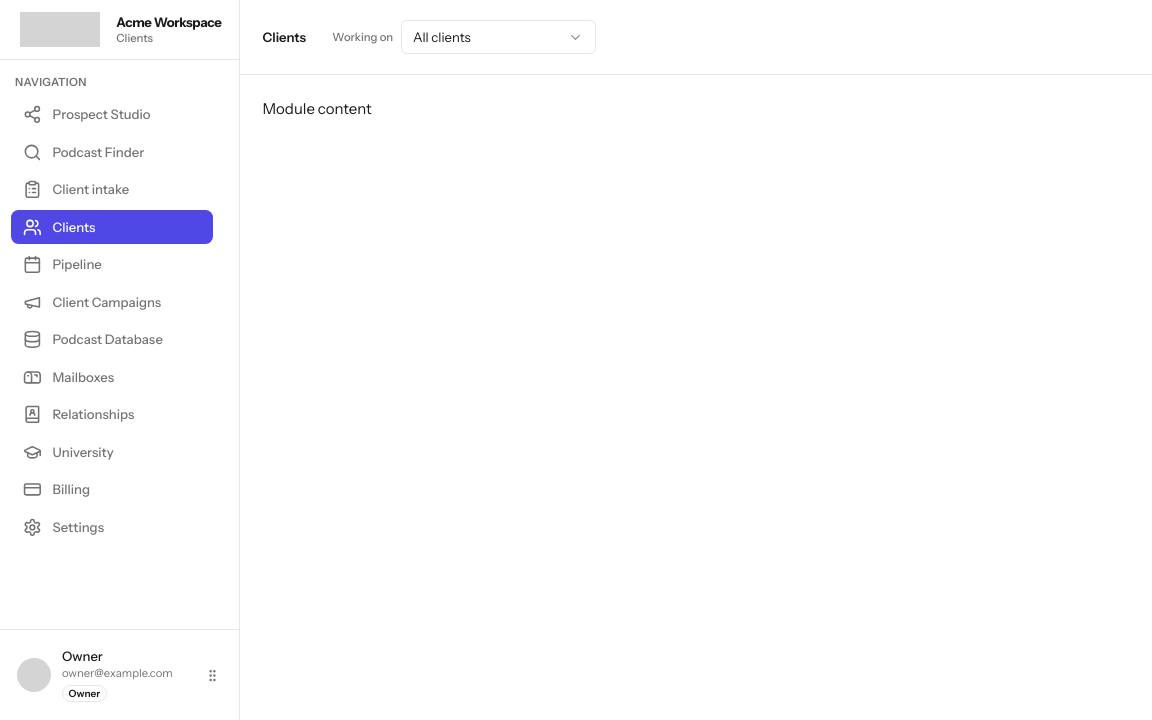
Test: WorkspaceLayout › restores and resets a navigation order saved for this owner and workspace
This screenshot has width=1152, height=720.
Click the button named "Reorder" at (213, 675), box [198,660,228,690]
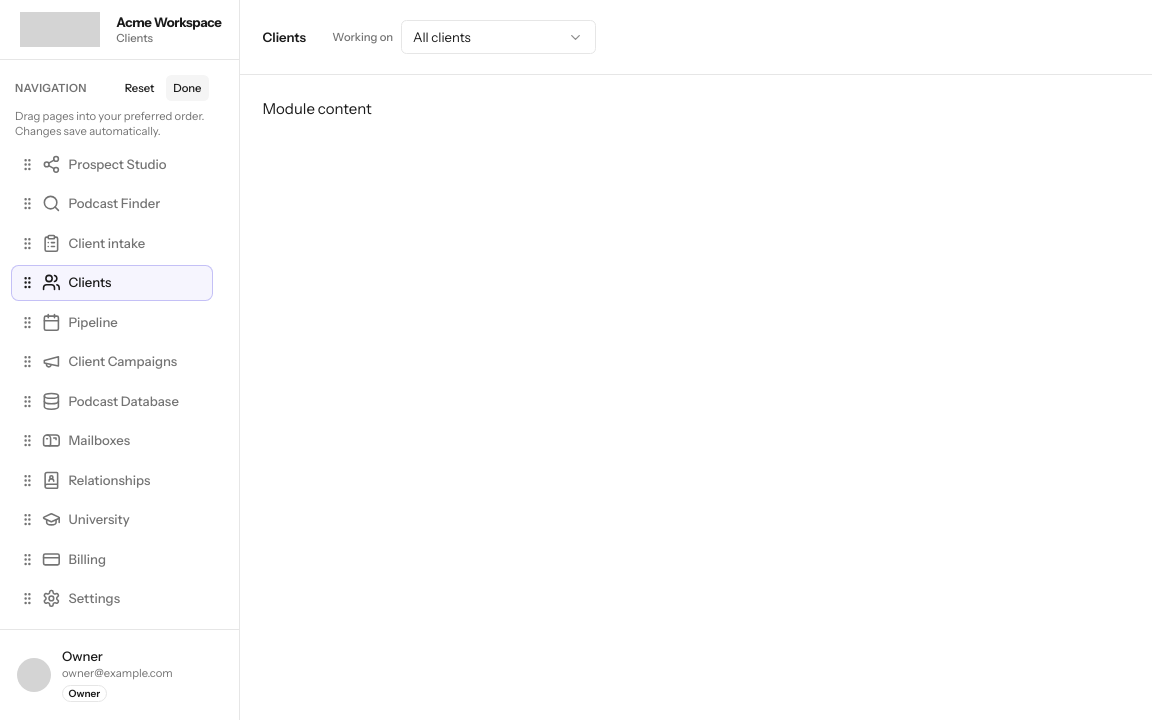
Now the number of buttons named "Drag " is 12
Now the text "Changes save automatically" is shown, box [15,109,204,138]
Now the button "Reorder" is gone
Click the button "Reset" at (140, 88), box [117,75,162,101]
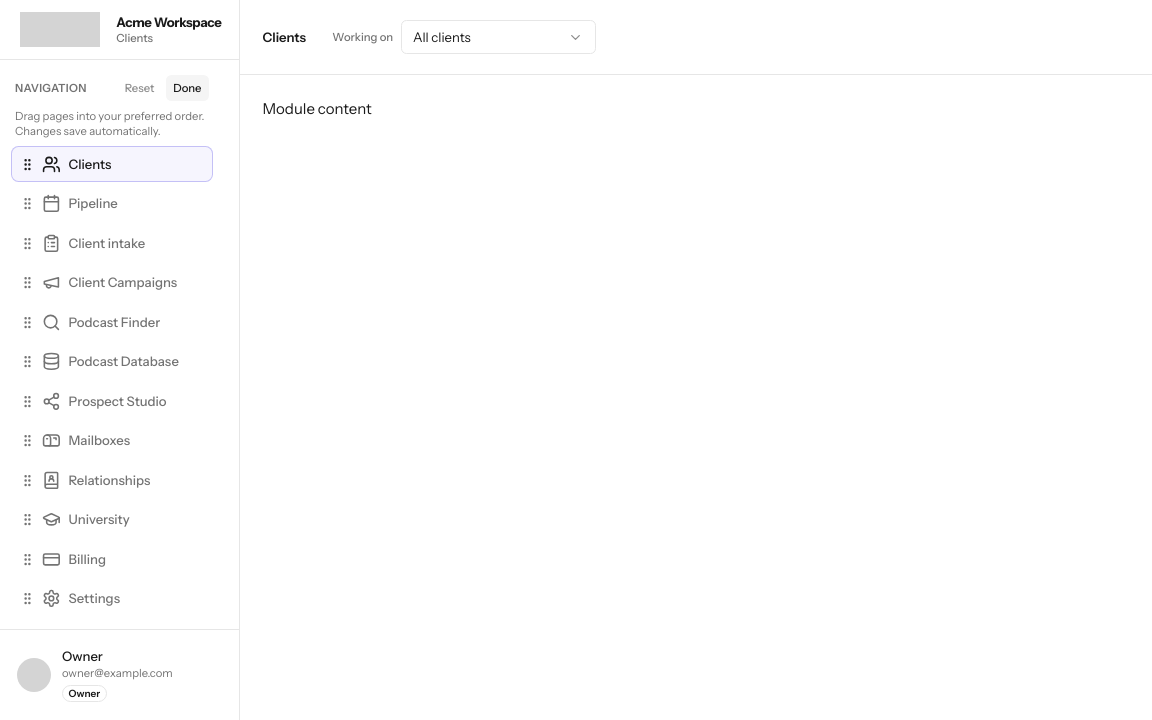
Click the button "Done" at (187, 88), box [166,75,209,101]
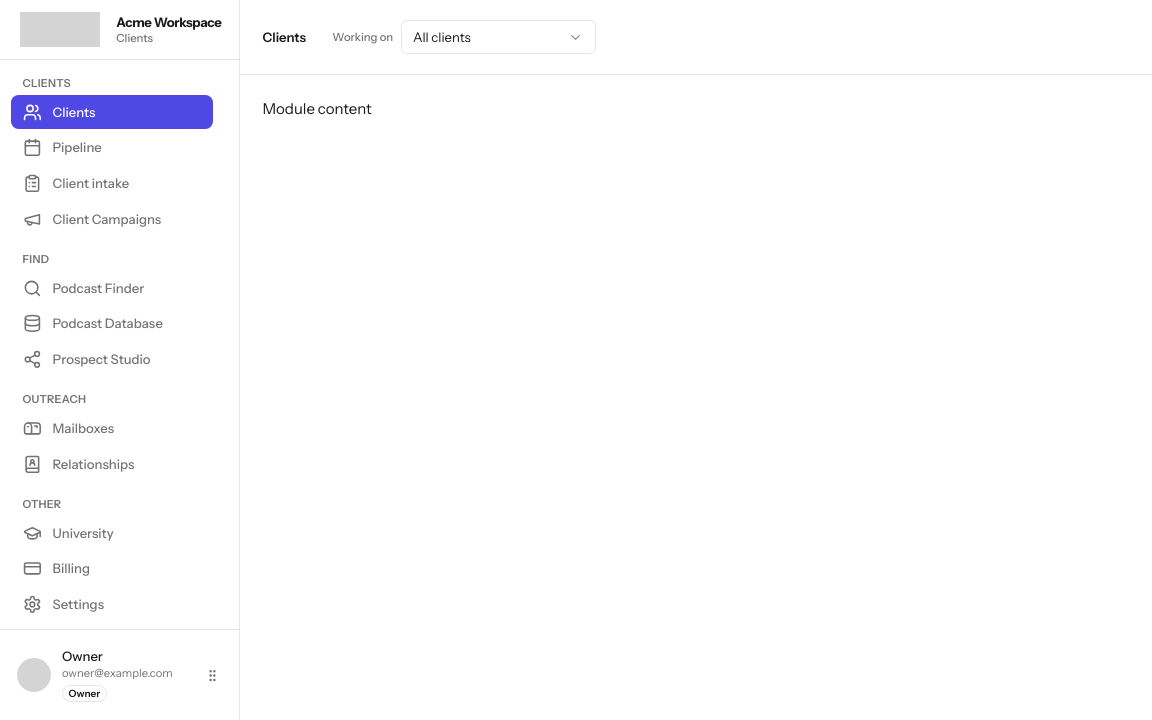
Now the button named "Reorder" is shown, box [198,660,228,690]
